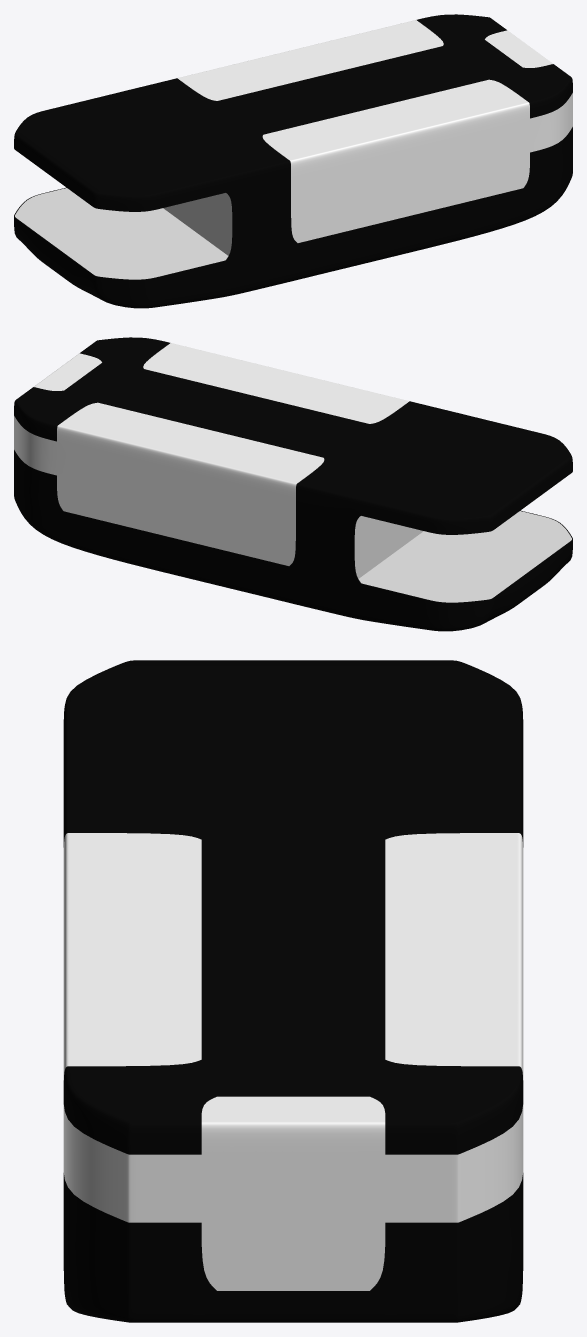
3 renders of one model, top to bottom at view 1: azimuth 30°, elevation 25°; view 2: azimuth 150°, elevation 25°; view 3: azimuth 270°, elevation 25°, orthographic. The views are drawn at different scales.
Visible parts, largest first — view 1: 11.корпус.002, 22.стекла.002, 33.пол.003; view 2: 11.корпус.002, 22.стекла.002, 33.пол.003; view 3: 11.корпус.002, 22.стекла.002.
Boxes of the visible parts, x1,y1,x2,y2 form: 11.корпус.002: (14,14,572,308); 22.стекла.002: (177,20,572,242); 33.пол.003: (15,188,232,279); 11.корпус.002: (14,337,572,631); 22.стекла.002: (14,343,409,565); 33.пол.003: (354,511,571,602); 11.корпус.002: (63,660,523,1322); 22.стекла.002: (63,833,523,1290).
Size of the model in its own units: 12 by 2.93 by 5.
4 materials, 1 textured.
